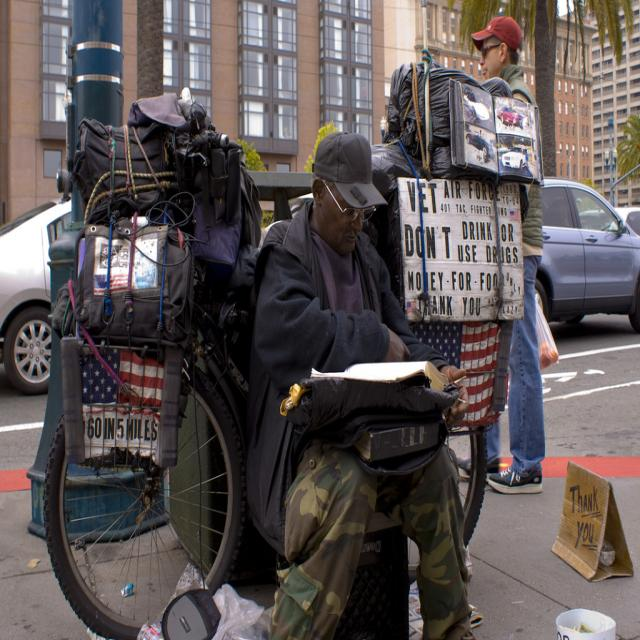other: (519, 168, 629, 332), (0, 200, 76, 397), (580, 200, 639, 233)
